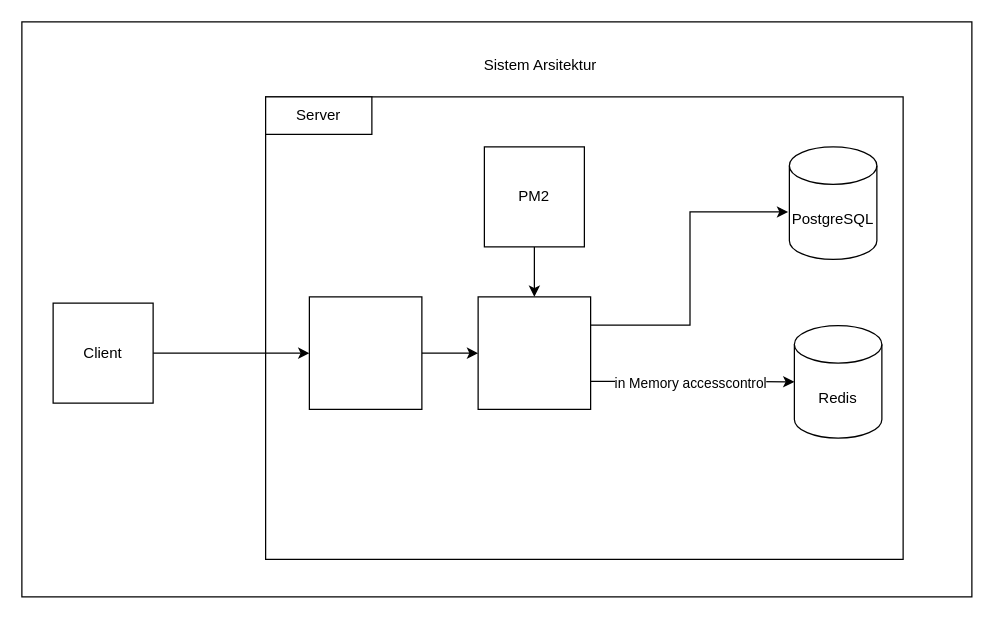
This 994x619 diagram has some shape labels left out. Here are the shapes that lost their labels. From the top down, the box of each, then its label:
(308, 296, 422, 409): nginx
(477, 296, 591, 409): Next.js
